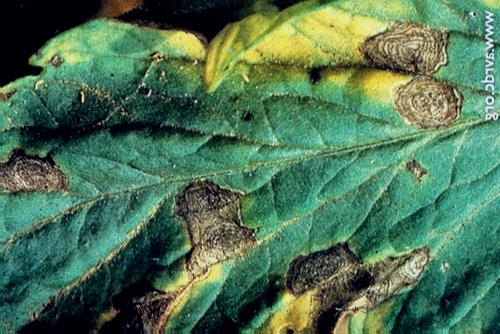Tomato Early blight leaf: (1, 0, 499, 330)
